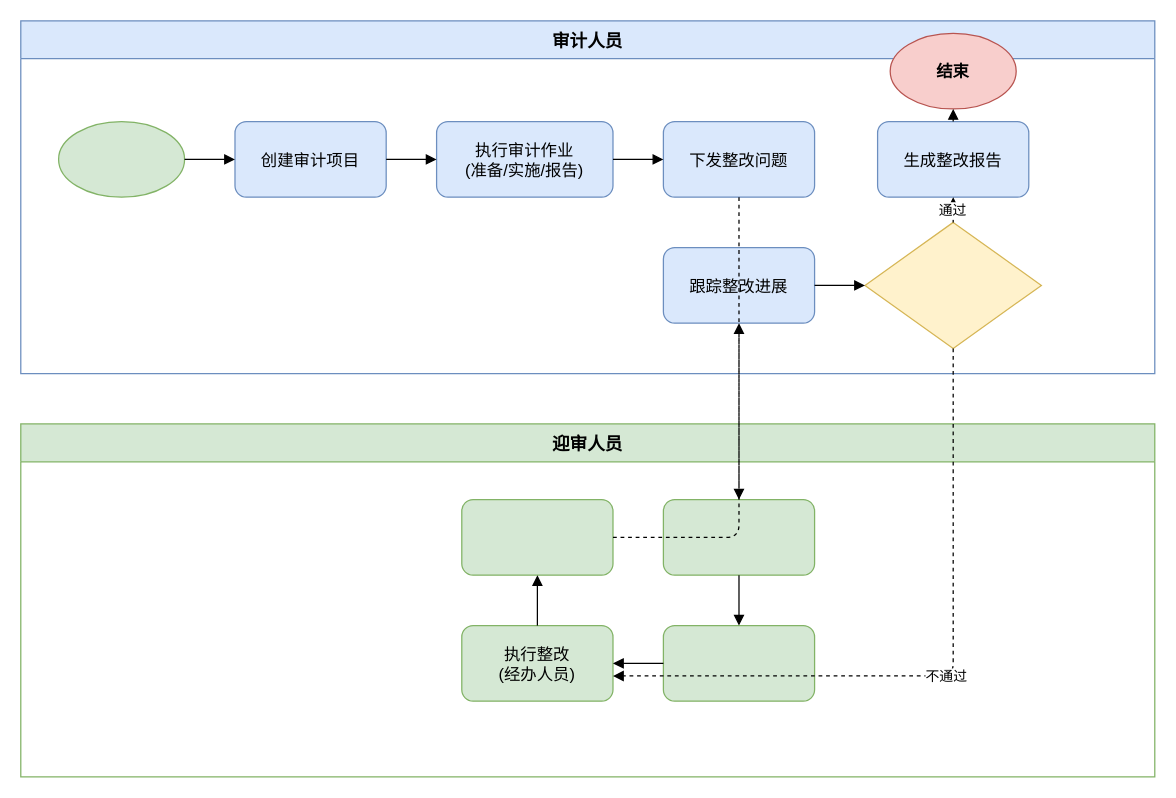
This 1176x798 diagram has some shape labels left out. Each missing label, with the centre of its shape:
"反馈整改进展" goes at pixel 537 536.
"开始" goes at pixel 121 158.
"接收整改问题 (接收人员)" goes at pixel 738 536.
"提交整改方案" goes at pixel 738 662.
"验收整改结果" goes at pixel 952 284.
